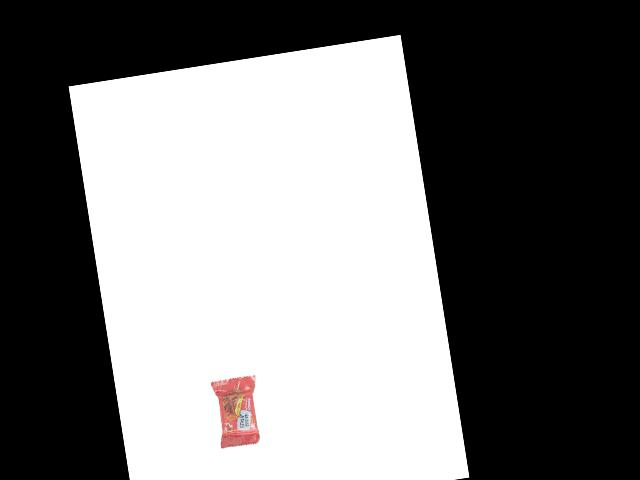chocolate: (211, 373, 270, 454)
